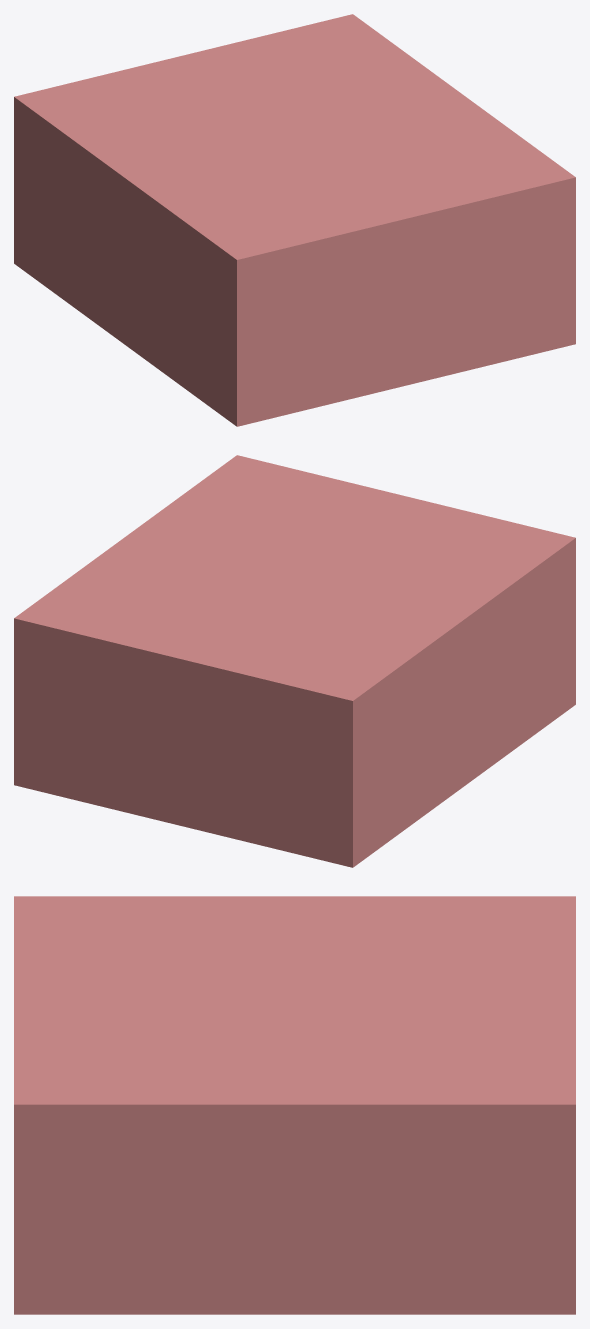
Rendered from 199521_occ.glb.
3 renders of one model, top to bottom at view 1: azimuth 30°, elevation 25°; view 2: azimuth 150°, elevation 25°; view 3: azimuth 270°, elevation 25°, orthographic. The views are drawn at different scales.
Parts seen in each view (by area): view 1: world; view 2: world; view 3: world.
Part boxes in pixels (x1=…): world: x1=14, y1=14, x2=575, y2=426; world: x1=14, y1=455, x2=575, y2=867; world: x1=14, y1=896, x2=575, y2=1314.
Bounding box in the file's own units: 5.51 × 2.59 × 6.28.
